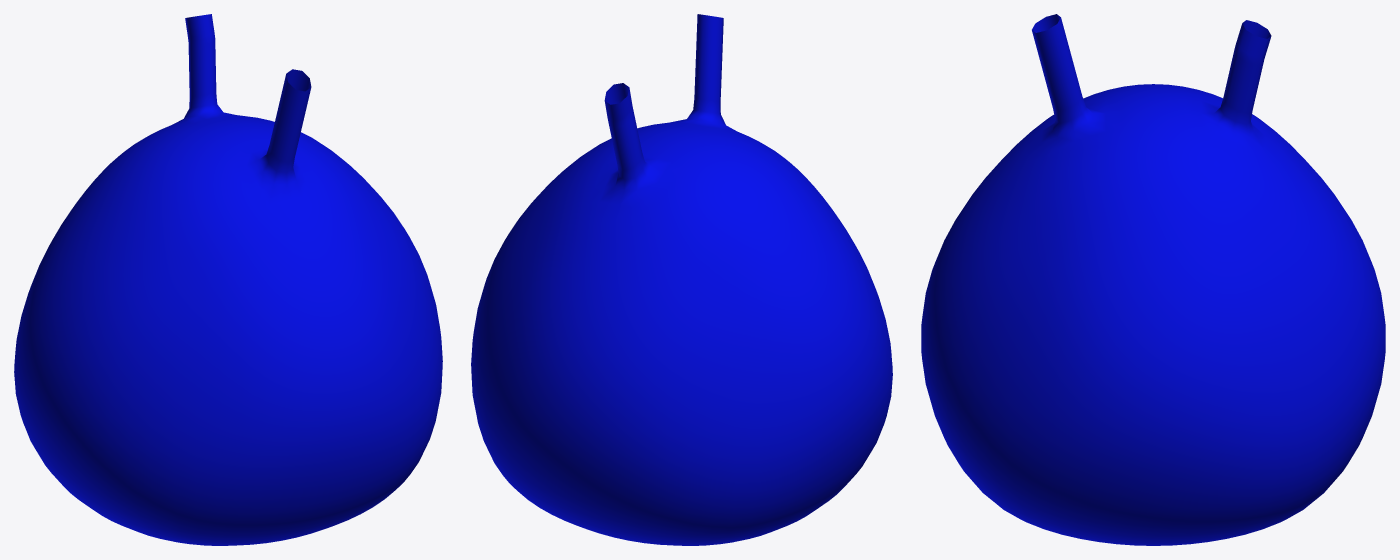
File: Glob.gltf
3 views of the same model, side by side, from view 1: azimuth 30°, elevation 25°; view 2: azimuth 150°, elevation 25°; view 3: azimuth 270°, elevation 25° (orthographic). The views are drawn at different scales.
Parts seen in each view (by area): view 1: Roundcube.001; view 2: Roundcube.001; view 3: Roundcube.001.
Boxes of the visible parts, <box> form: Roundcube.001: <box>14,14,442,545</box>; Roundcube.001: <box>471,14,892,545</box>; Roundcube.001: <box>921,14,1385,545</box>.
Size of the model in its own units: 1.93 by 2.31 by 1.93.
